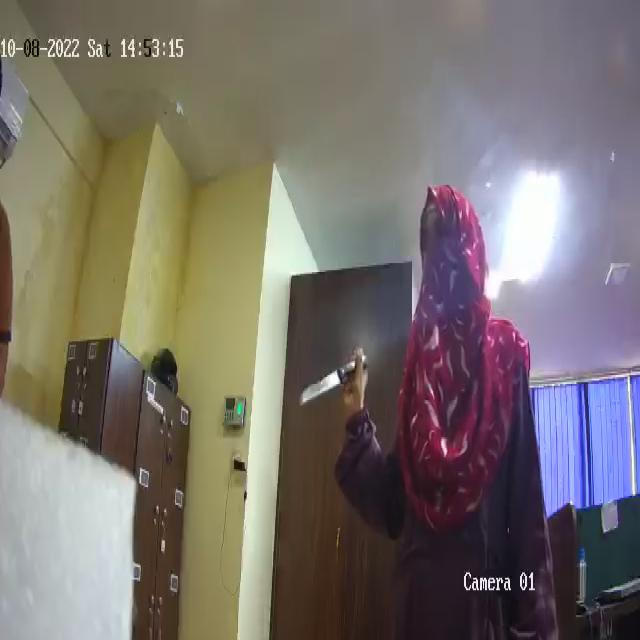Knife: (297, 348, 367, 409)
